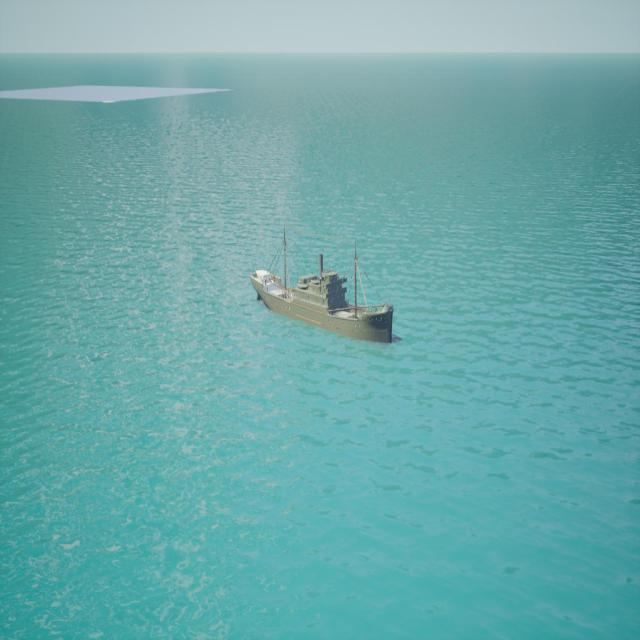fishing ship: (251, 245, 397, 347)
